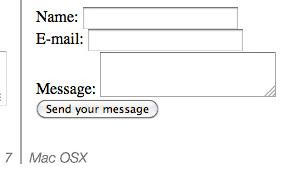button: (36, 99, 161, 121)
field: (97, 51, 277, 99), (81, 5, 238, 30), (85, 28, 244, 52)
field_with_label: (35, 50, 278, 100), (35, 3, 240, 31), (33, 28, 246, 53)
